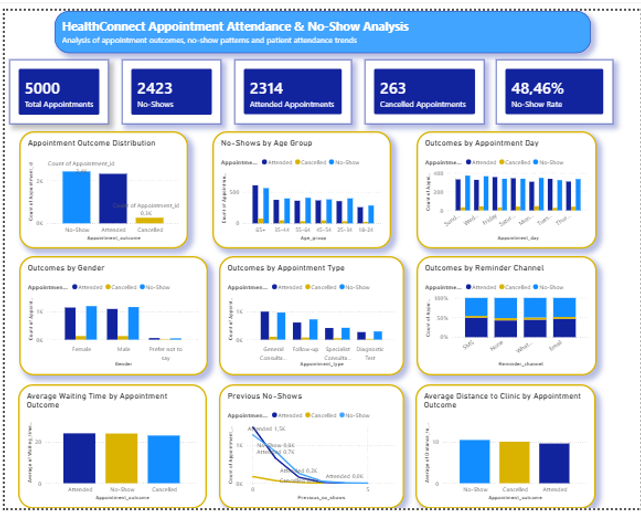

What the dashboard file says about the page in this screenshot:
{"tool":"powerbi","page":{"name":"Page 1","canvas":[1280,1000],"ordinal":0},"visuals":[{"type":"cardVisual","fields":{"Data":["HealthConnect_Appointment_Data.Total Appointments"]},"box":[8.3,98.3,200,130],"z":0},{"type":"cardVisual","fields":{"Data":["HealthConnect_Appointment_Data.No-Shows"]},"box":[235,98.3,200,130],"z":1},{"type":"cardVisual","fields":{"Data":["HealthConnect_Appointment_Data.Attended Appointments"]},"box":[461.7,98.3,235.8,129.6],"z":2},{"type":"cardVisual","fields":{"Data":["HealthConnect_Appointment_Data.Cancelled Appointments"]},"box":[725,98.3,241.2,129.6],"z":3},{"type":"cardVisual","fields":{"Data":["HealthConnect_Appointment_Data.No-Show Rate"]},"box":[988.3,98.3,235.8,129.6],"z":4},{"type":"columnChart","title":"Appointment Outcome Distribution","fields":{"Category":["HealthConnect_Appointment_Data.Appointment_outcome"],"Y":["CountNonNull(HealthConnect_Appointment_Data.Appointment_id)"]},"box":[28.3,241.7,339.8,236.2],"z":5},{"type":"clusteredColumnChart","title":"No-Shows by Age Group","fields":{"Category":["HealthConnect_Appointment_Data.Age_group"],"Y":["CountNonNull(HealthConnect_Appointment_Data.Appointment_id)"],"Series":["HealthConnect_Appointment_Data.Appointment_outcome"]},"box":[416.7,241.7,360,236.2],"z":6},{"type":"clusteredColumnChart","title":"Outcomes by Gender","fields":{"Category":["HealthConnect_Appointment_Data.Gender"],"Y":["CountNonNull(HealthConnect_Appointment_Data.Appointment_id)"],"Series":["HealthConnect_Appointment_Data.Appointment_outcome"]},"box":[28.3,493.3,380,240],"z":7},{"type":"clusteredColumnChart","title":"Outcomes by Appointment Type","fields":{"Category":["HealthConnect_Appointment_Data.Appointment_type"],"Y":["CountNonNull(HealthConnect_Appointment_Data.Appointment_id)"],"Series":["HealthConnect_Appointment_Data.Appointment_outcome"]},"box":[430,493.3,373.3,240],"z":8},{"type":"clusteredColumnChart","title":"Outcomes by Appointment Day","fields":{"Category":["HealthConnect_Appointment_Data.Appointment_day"],"Y":["CountNonNull(HealthConnect_Appointment_Data.Appointment_id)"],"Series":["HealthConnect_Appointment_Data.Appointment_outcome"]},"box":[828.3,241.7,362.9,236.2],"z":9},{"type":"hundredPercentStackedColumnChart","title":"Outcomes by Reminder Channel","fields":{"Category":["HealthConnect_Appointment_Data.Reminder_channel"],"Y":["CountNonNull(HealthConnect_Appointment_Data.Appointment_id)"],"Series":["HealthConnect_Appointment_Data.Appointment_outcome"]},"box":[828.3,493.3,363.3,240],"z":10},{"type":"textbox","box":[100,0,1080,85],"z":11},{"type":"clusteredColumnChart","title":"Average Waiting Time by Appointment Outcome","fields":{"Category":["HealthConnect_Appointment_Data.Appointment_outcome"],"Y":["Avg(HealthConnect_Appointment_Data.Waiting_time_minutes)"]},"box":[27.5,750,380,250],"z":12},{"type":"lineChart","title":"Previous No-Shows","fields":{"Category":["HealthConnect_Appointment_Data.Previous_no_shows"],"Y":["CountNonNull(HealthConnect_Appointment_Data.Appointment_id)"],"Series":["HealthConnect_Appointment_Data.Appointment_outcome"]},"box":[430,750,372.5,250],"z":13},{"type":"clusteredColumnChart","title":"Average Distance to Clinic by Appointment Outcome","fields":{"Category":["HealthConnect_Appointment_Data.Appointment_outcome"],"Y":["Avg(HealthConnect_Appointment_Data.Distance_to_clinic_km)"]},"box":[827.5,750,362.5,250],"z":14}]}

Visuals, with their boxes in screenshot pixels (x1, y1, x2, y2), scaled from the page's 1280x1000 canvas onto the 641x513 screenshot:
cardVisual - HealthConnect_Appointment_Data.Total Appointments: <bbox>4, 50, 104, 117</bbox>
cardVisual - HealthConnect_Appointment_Data.No-Shows: <bbox>118, 50, 218, 117</bbox>
cardVisual - HealthConnect_Appointment_Data.Attended Appointments: <bbox>231, 50, 349, 117</bbox>
cardVisual - HealthConnect_Appointment_Data.Cancelled Appointments: <bbox>363, 50, 484, 117</bbox>
cardVisual - HealthConnect_Appointment_Data.No-Show Rate: <bbox>495, 50, 613, 117</bbox>
"Appointment Outcome Distribution" columnChart: <bbox>14, 124, 184, 245</bbox>
"No-Shows by Age Group" clusteredColumnChart: <bbox>209, 124, 389, 245</bbox>
"Outcomes by Gender" clusteredColumnChart: <bbox>14, 253, 204, 376</bbox>
"Outcomes by Appointment Type" clusteredColumnChart: <bbox>215, 253, 402, 376</bbox>
"Outcomes by Appointment Day" clusteredColumnChart: <bbox>415, 124, 597, 245</bbox>
"Outcomes by Reminder Channel" hundredPercentStackedColumnChart: <bbox>415, 253, 597, 376</bbox>
textbox: <bbox>50, 0, 591, 44</bbox>
"Average Waiting Time by Appointment Outcome" clusteredColumnChart: <bbox>14, 385, 204, 512</bbox>
"Previous No-Shows" lineChart: <bbox>215, 385, 402, 512</bbox>
"Average Distance to Clinic by Appointment Outcome" clusteredColumnChart: <bbox>414, 385, 596, 512</bbox>
